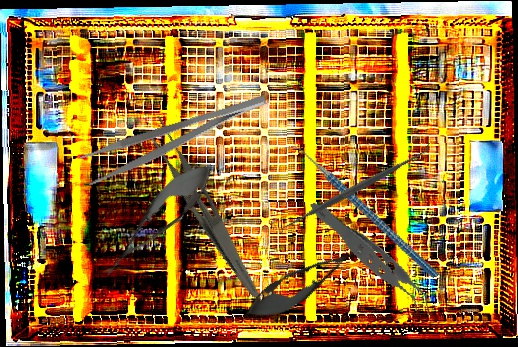Chopper: (280, 111, 441, 313)
Dressing Forceps: (133, 111, 281, 302), (78, 90, 274, 187)
Micro Scissor: (93, 150, 224, 288), (235, 229, 377, 332)
Spatula Surgical: (274, 139, 437, 238)
Tissue Forceps: (309, 179, 434, 344)
